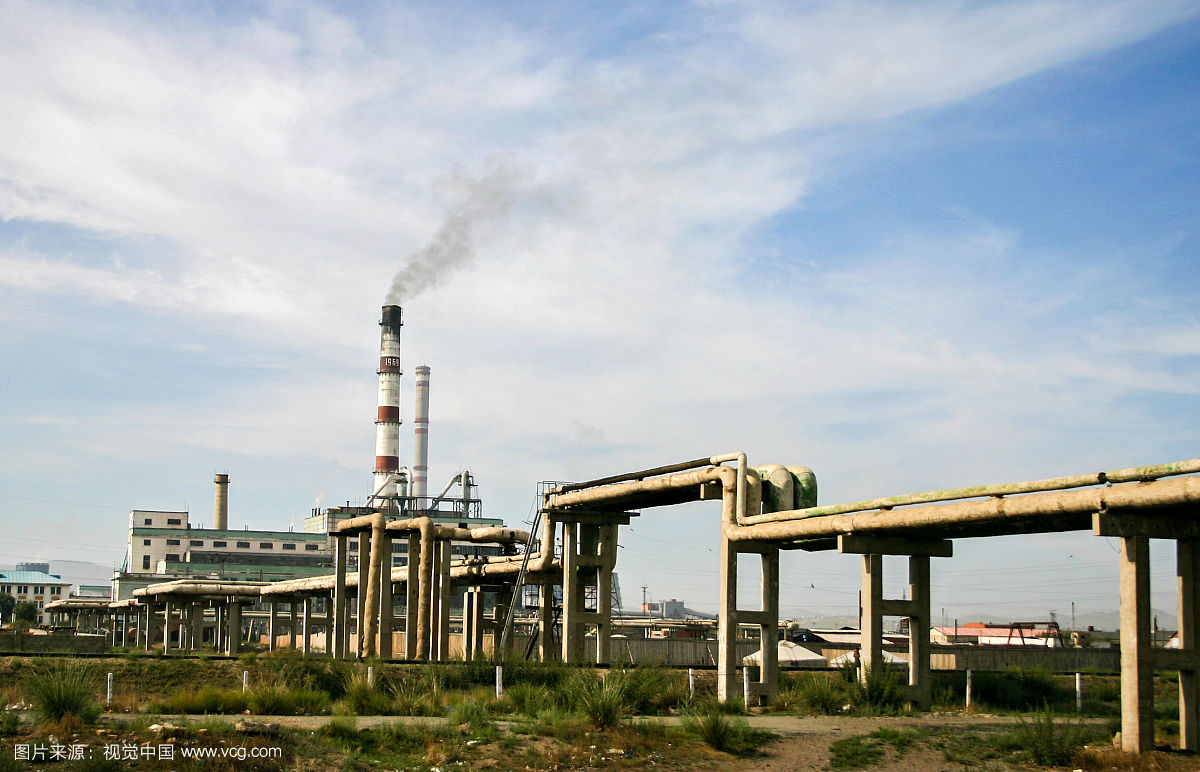dust: (365, 143, 547, 318)
